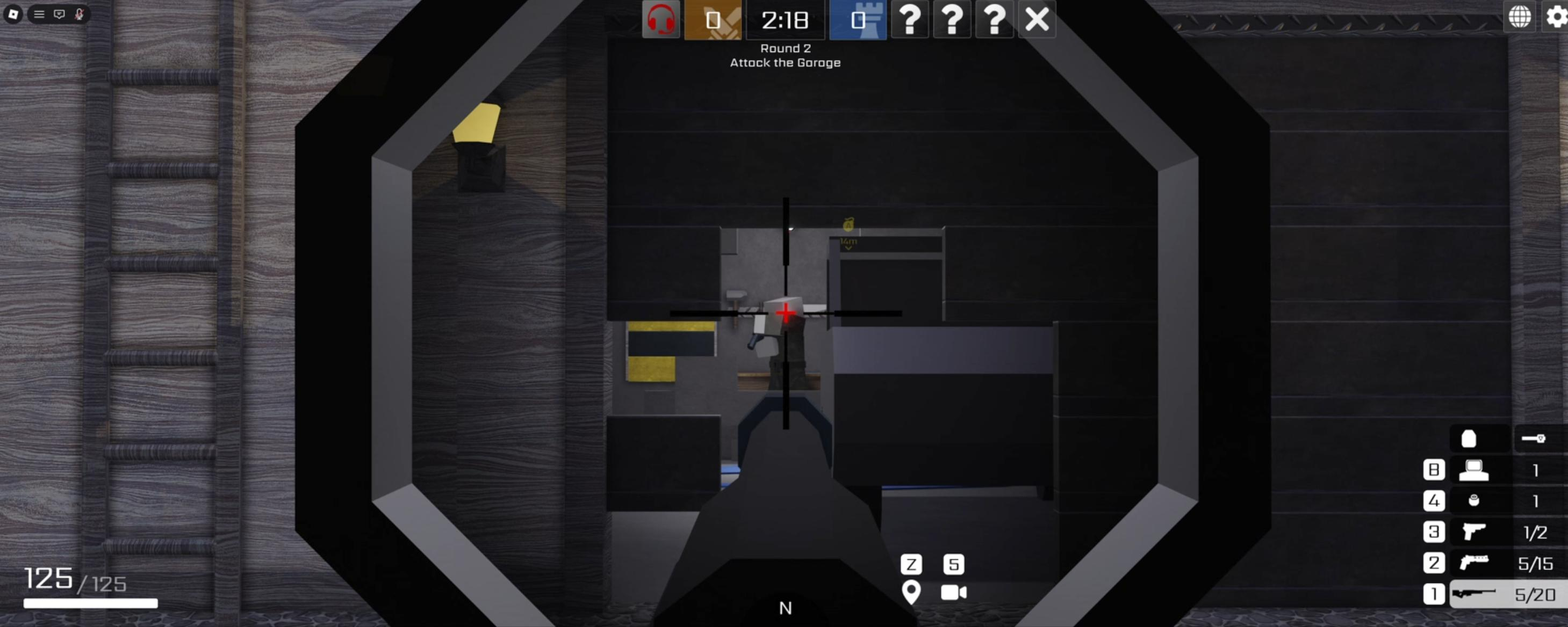enemy: (742, 288, 823, 403)
